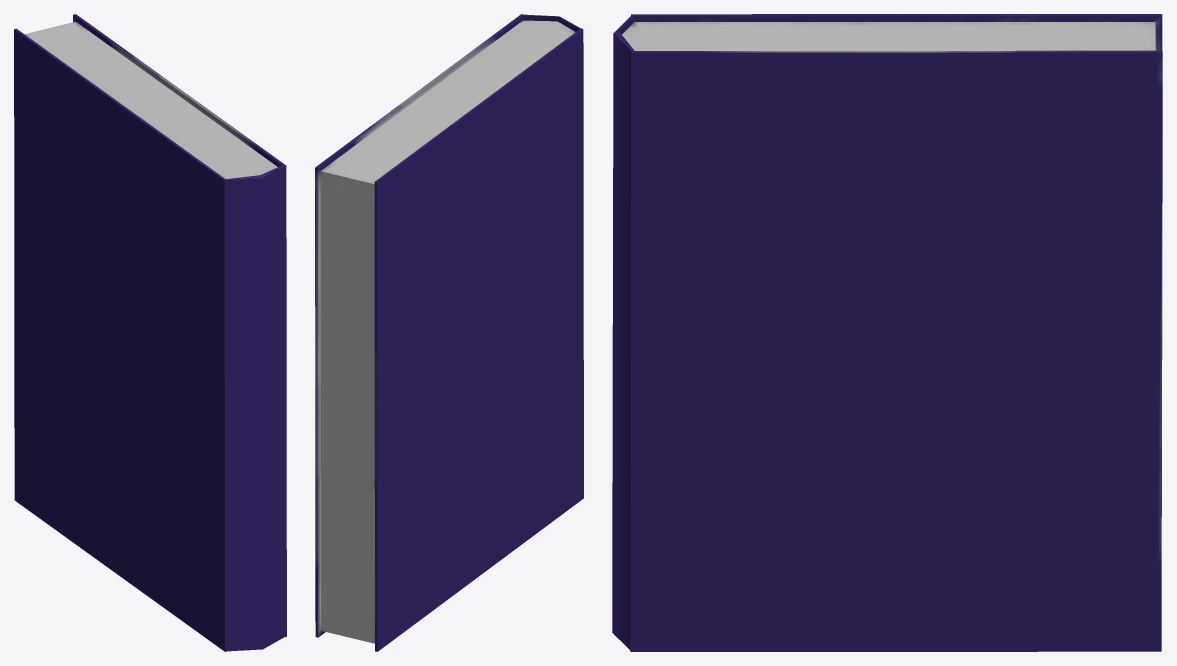
File: BookDarkBlue.fbx
3 views of the same model, side by side, from view 1: azimuth 30°, elevation 25°; view 2: azimuth 150°, elevation 25°; view 3: azimuth 270°, elevation 25° (orthographic). The views are drawn at different scales.
Visible parts, largest first — view 1: BookDarkBlueOBJ; view 2: BookDarkBlueOBJ; view 3: BookDarkBlueOBJ.
Boxes of the visible parts, x1=… form: BookDarkBlueOBJ: x1=14, y1=14, x2=286, y2=651; BookDarkBlueOBJ: x1=315, y1=14, x2=583, y2=651; BookDarkBlueOBJ: x1=612, y1=14, x2=1162, y2=651.
Bounding box in the file's own units: 5.41 × 38.31 × 31.75.
Materials: 1 (1 with a texture image).
